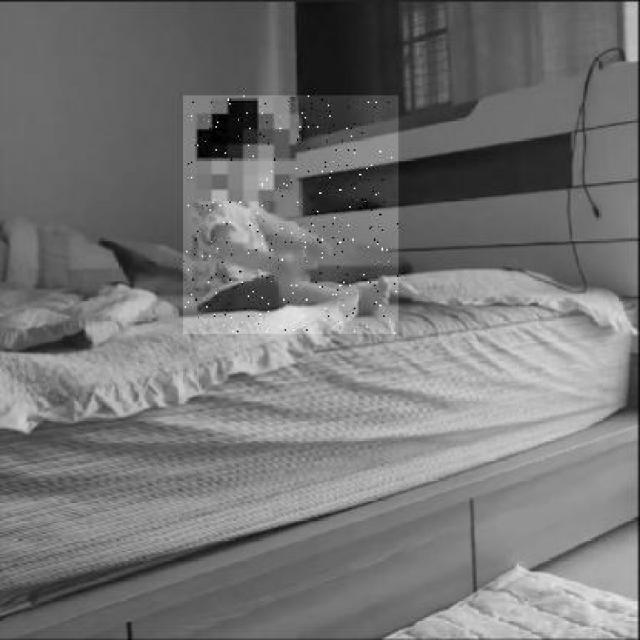child: (183, 95, 399, 333)
